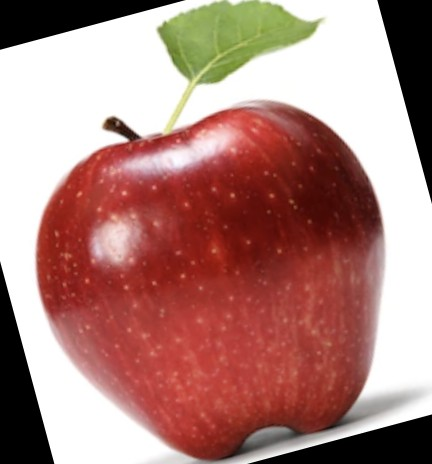fresh_apple: (31, 102, 383, 455)
